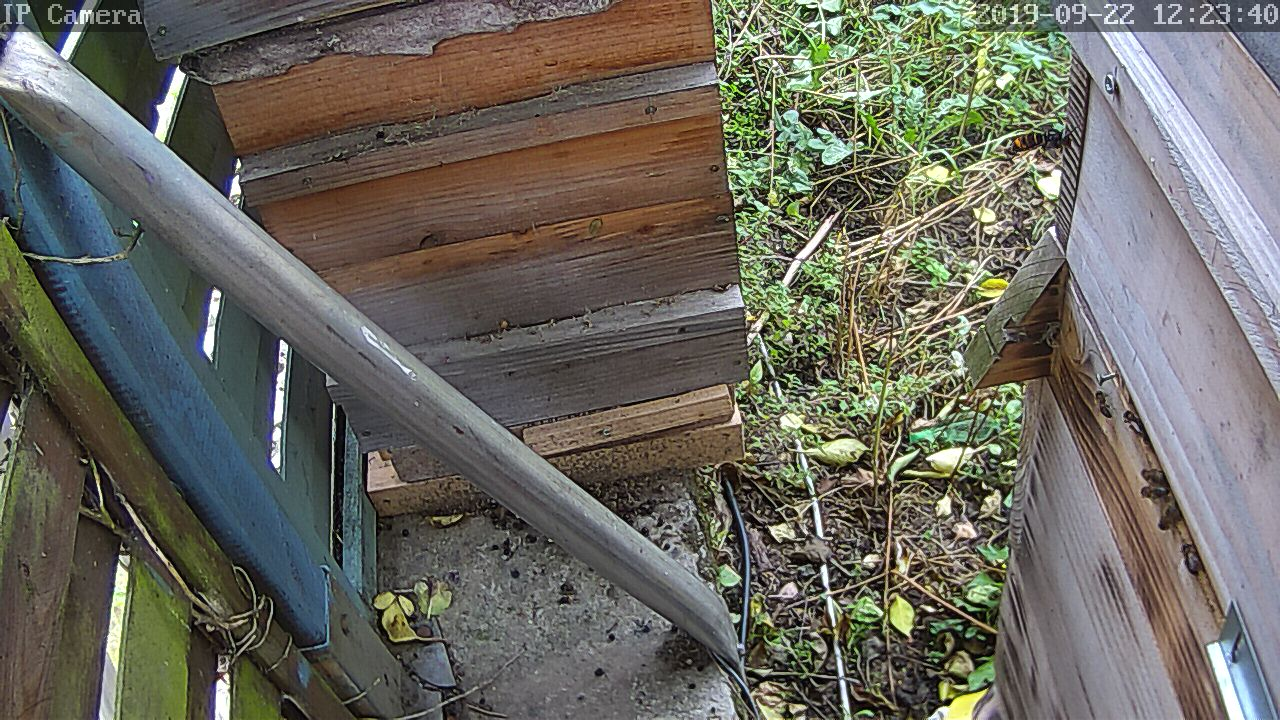bee: (1126, 463, 1173, 505), (1170, 531, 1212, 574), (1146, 505, 1187, 539), (1118, 406, 1151, 448), (1088, 388, 1116, 421)
hornet: (994, 123, 1081, 163)
